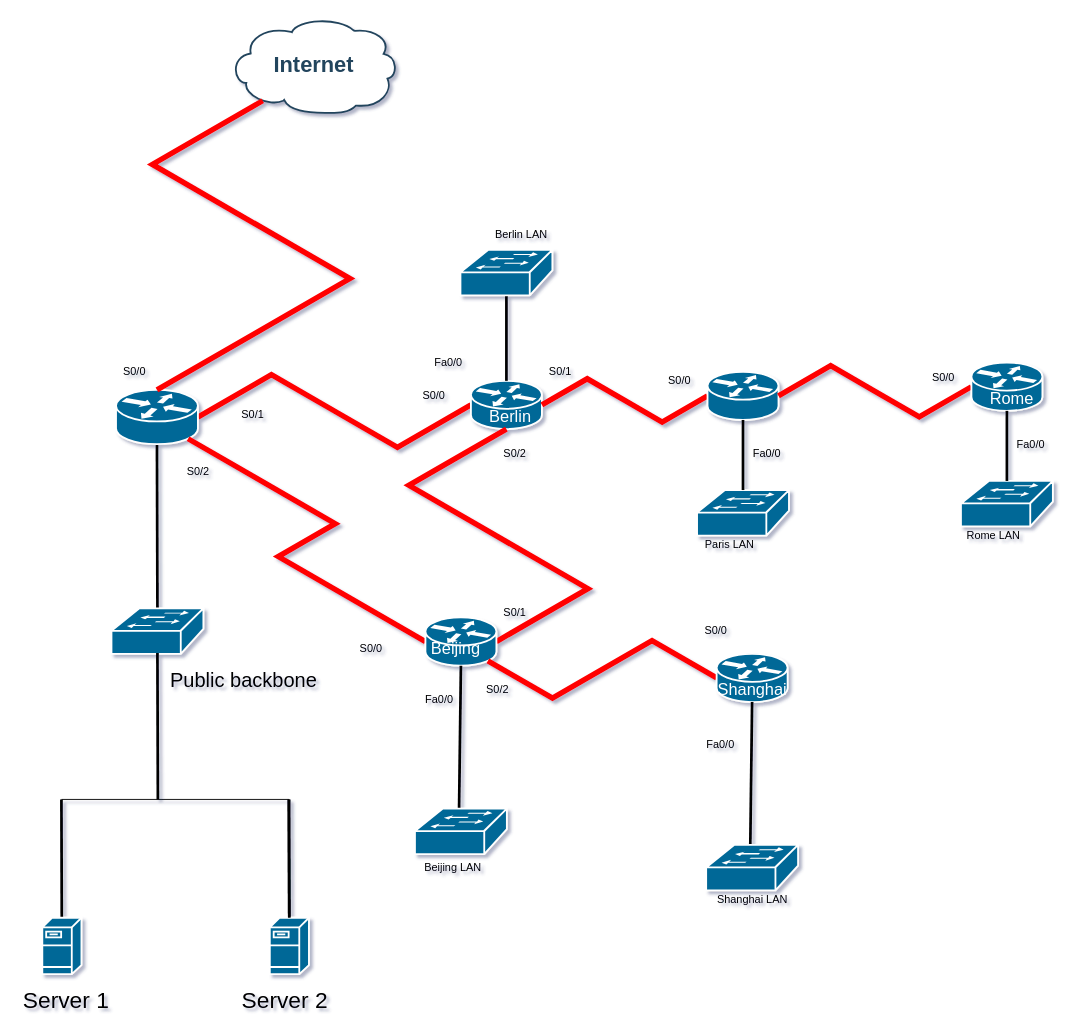
Some shapes in this 1075 by 1034 pixel diagram are drawn without their labels. The shapes that lost their labels are listed below. From the top down, each one's centre as x and y in pixels, then its label:
At (x=742, y=395): "Paris".
At (x=156, y=417): "Hong Kong".
